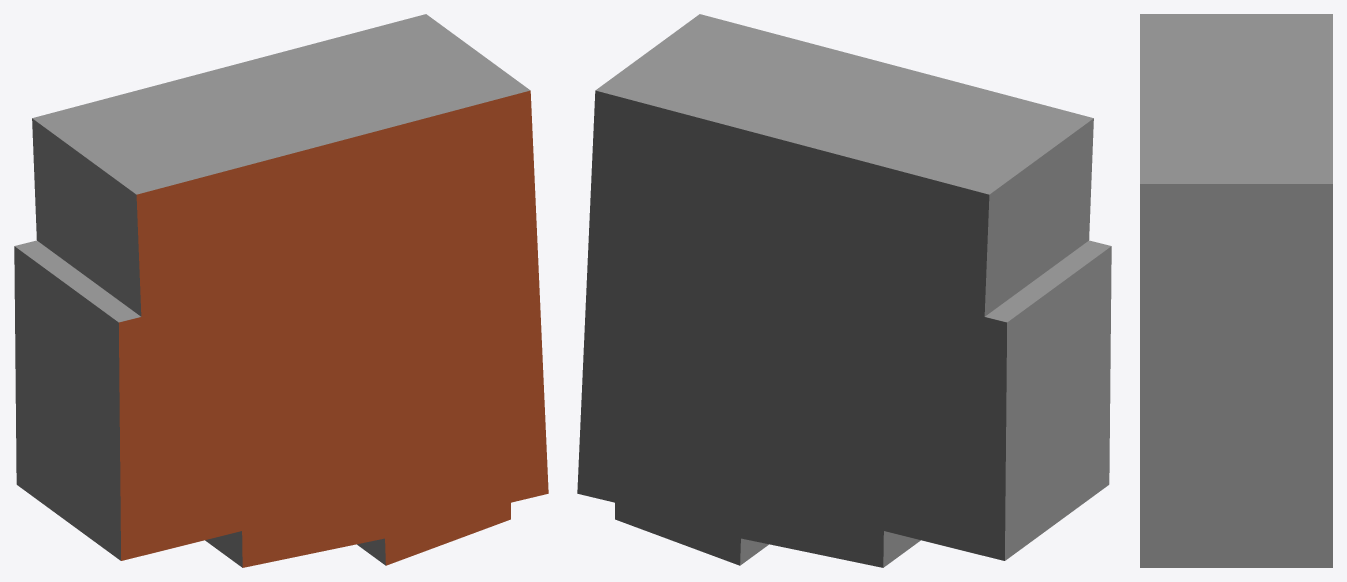
File: construction_6979_assumed_A_Casa_h6m.obj
The picture shows the model from 3 angles, left to right: view 1: azimuth 30°, elevation 25°; view 2: azimuth 150°, elevation 25°; view 3: azimuth 270°, elevation 25°; orthographic projection. The views are drawn at different scales.
Parts seen in each view (by area): view 1: construction_6979_assumed_A_Casa; view 2: construction_6979_assumed_A_Casa; view 3: construction_6979_assumed_A_Casa.
Boxes of the visible parts, <box> form: construction_6979_assumed_A_Casa: <box>14,14,548,567</box>; construction_6979_assumed_A_Casa: <box>577,14,1111,567</box>; construction_6979_assumed_A_Casa: <box>1140,14,1332,567</box>.
Bounding box in the file's own units: 14.25 × 13.94 × 6.
